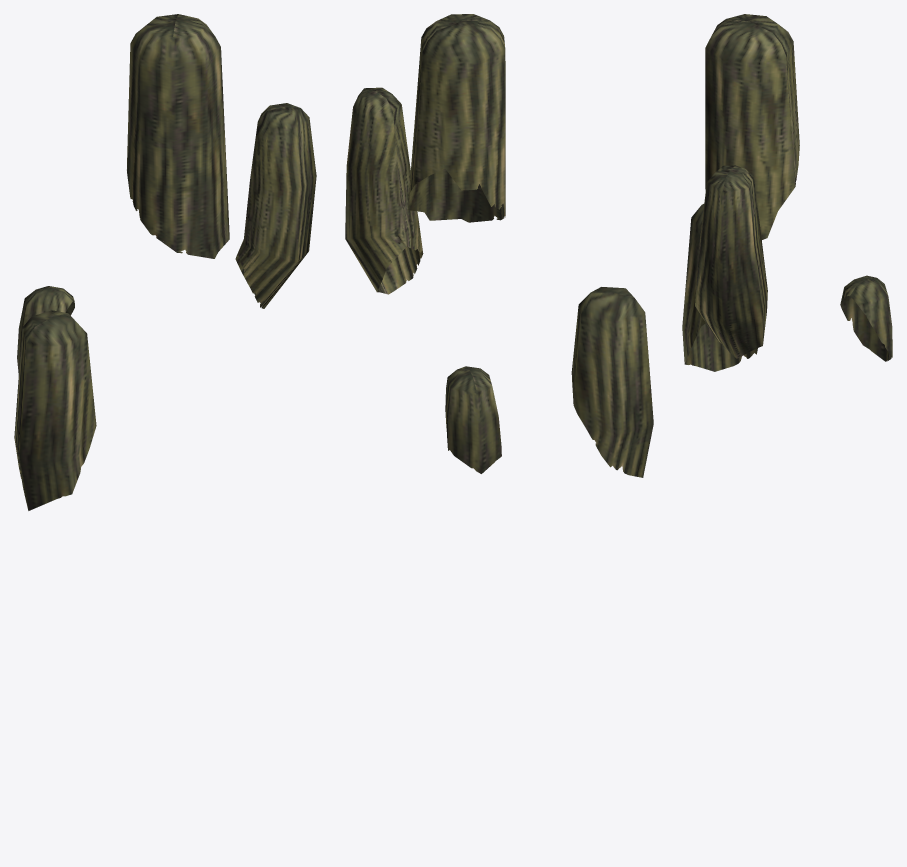
The model's file is Cactus_v3.gltf.
3 renders of one model, left to right at view 1: azimuth 30°, elevation 25°; view 2: azimuth 150°, elevation 25°; view 3: azimuth 270°, elevation 25°, orthographic.
Visible parts, largest first — view 1: Cactus_v3(Clone); view 2: Cactus_v3(Clone); view 3: Cactus_v3(Clone).
Part boxes in pixels (x1,y1,x2,y2): Cactus_v3(Clone): (14, 14, 316, 510); Cactus_v3(Clone): (345, 14, 653, 477); Cactus_v3(Clone): (682, 14, 892, 371).
Size of the model in its own units: 1.02 by 2.64 by 0.6265.
Materials: 1 (1 with a texture image).
